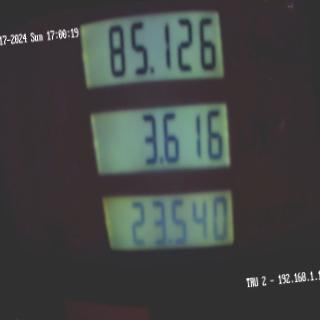screen: (72, 0, 254, 284)
